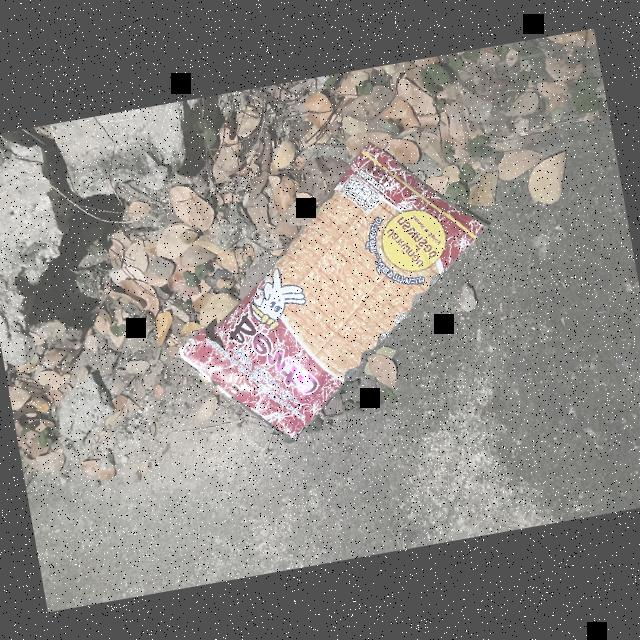snack_bag: (138, 112, 525, 466)
